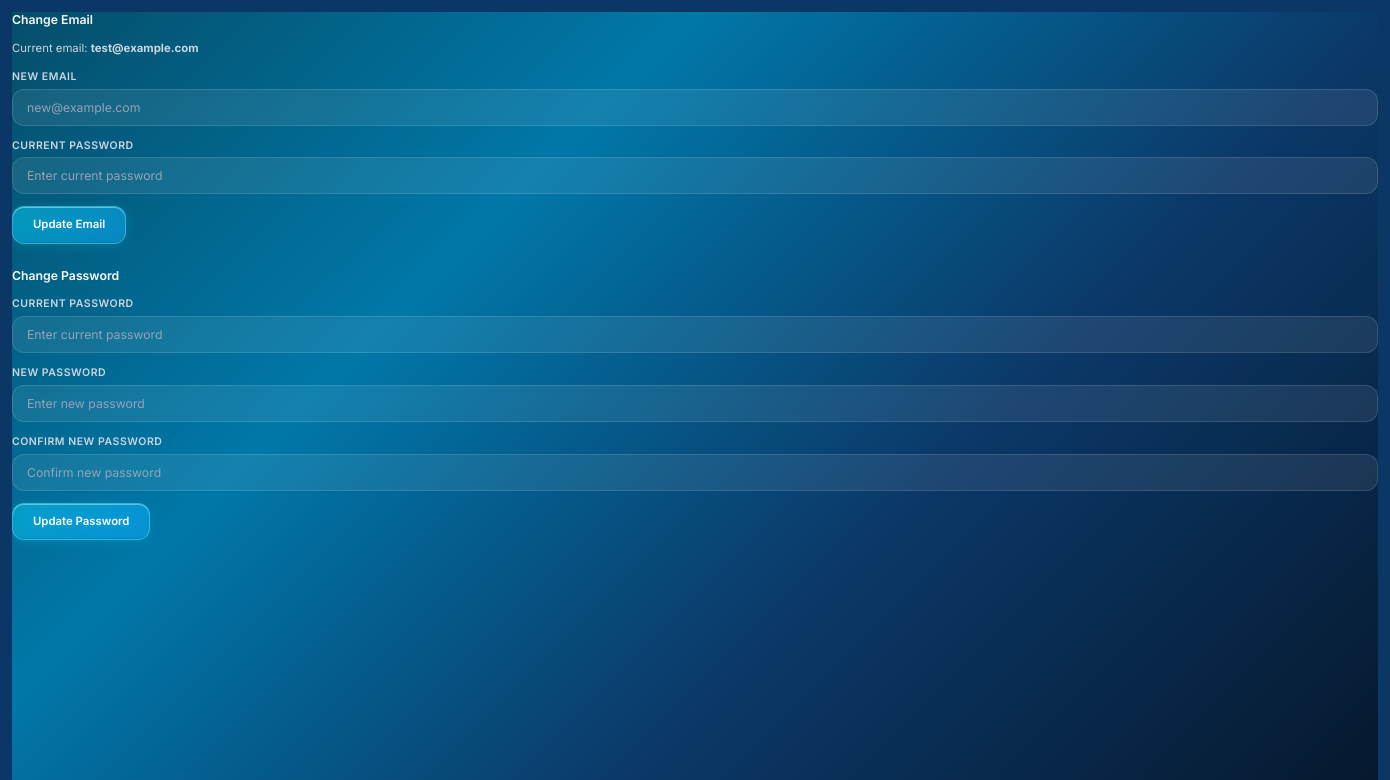
ProfileSection › shows error when passwords do not match
This screenshot has width=1390, height=780.
Type "x-cur" into the password field labelled "Current Password" below "Change Password" at [695, 335], box [12,316,1378,353]
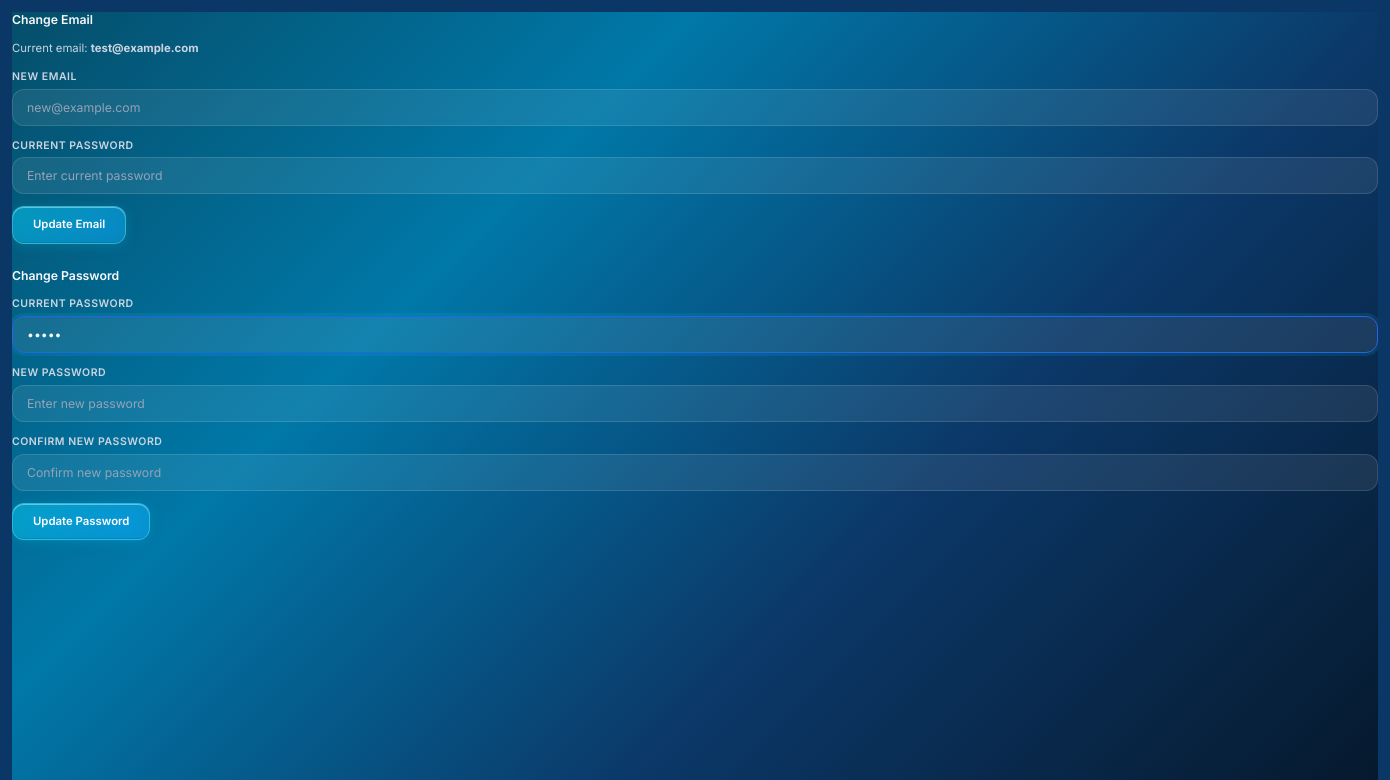
Type "x-new-1" into the password field labelled "New Password" at [695, 403], box [12,385,1378,422]
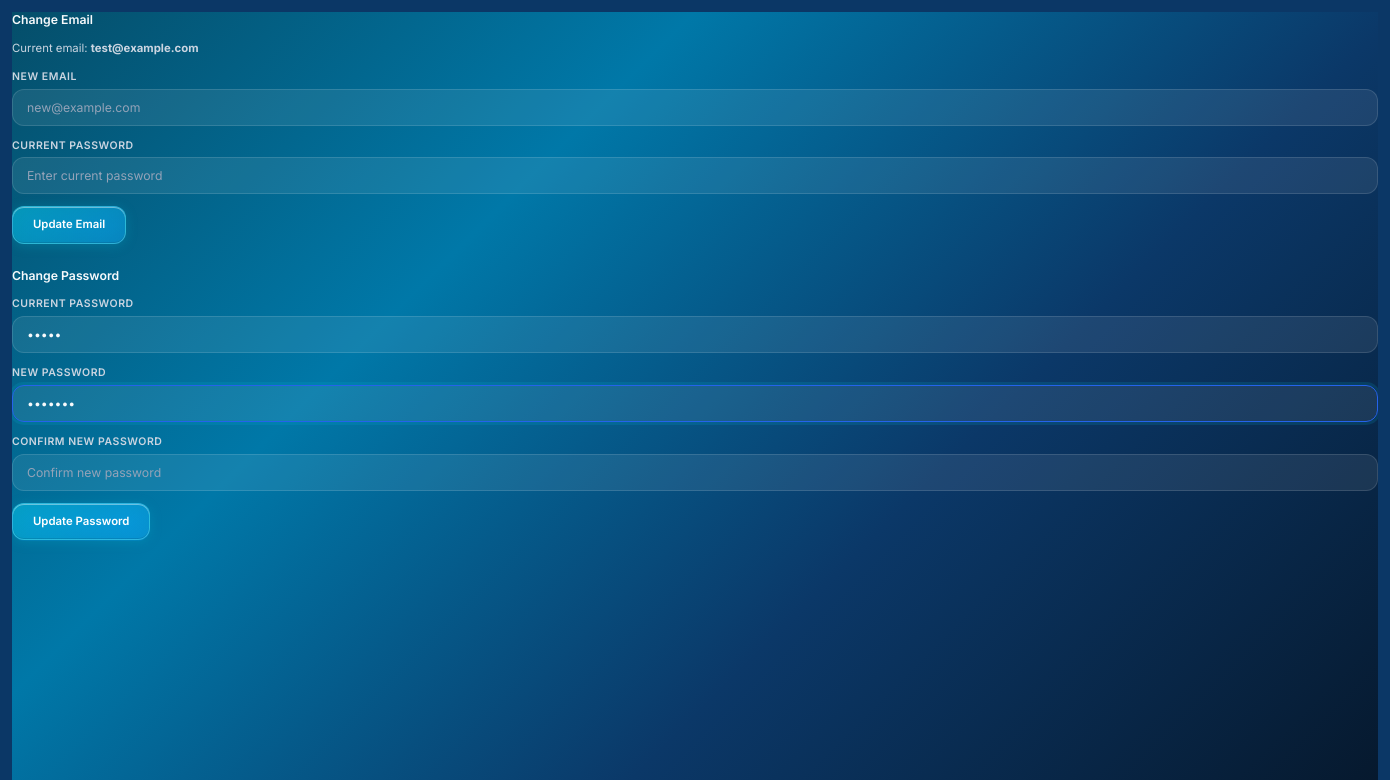
Type "x-new-2" into the password field labelled "Confirm New Password" at [695, 472], box [12,454,1378,491]
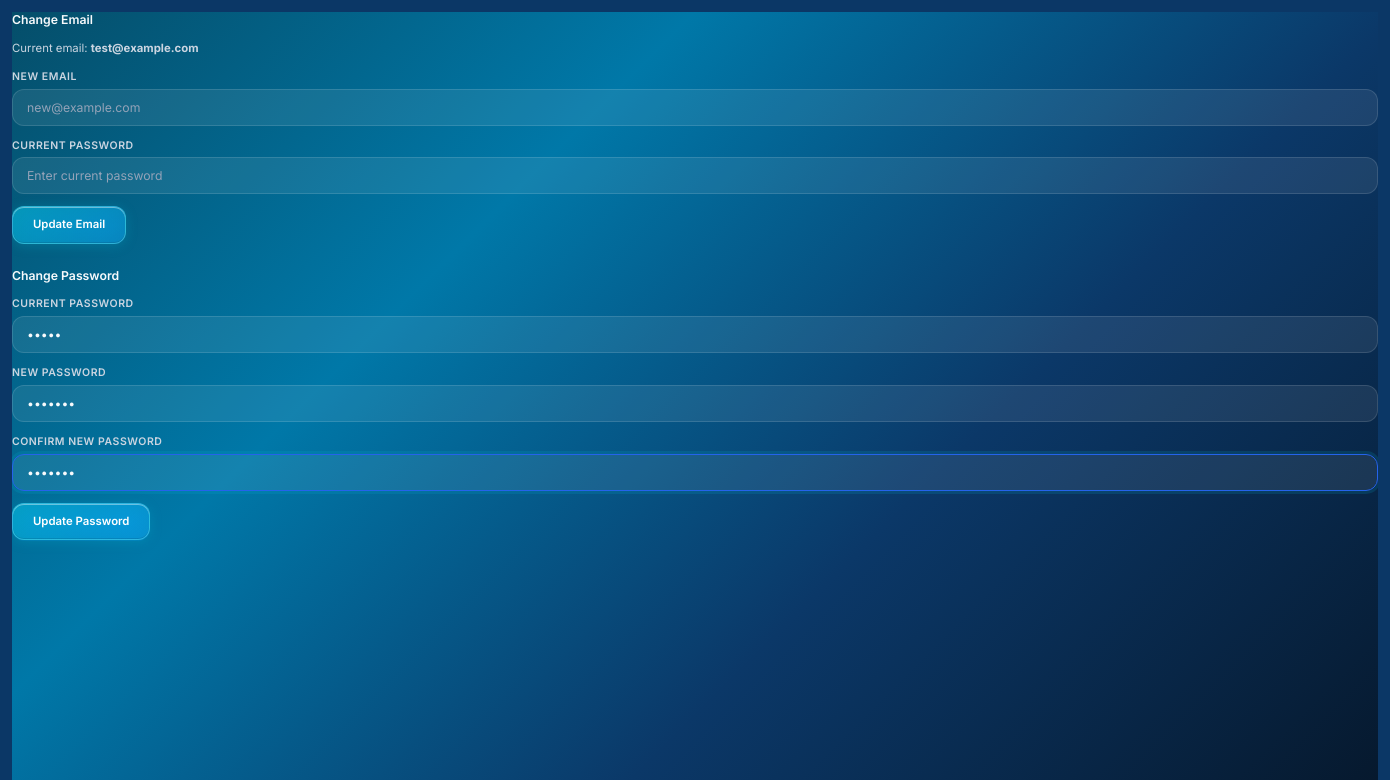
Click the button "Update Password" at [81, 522], box [12,503,150,540]
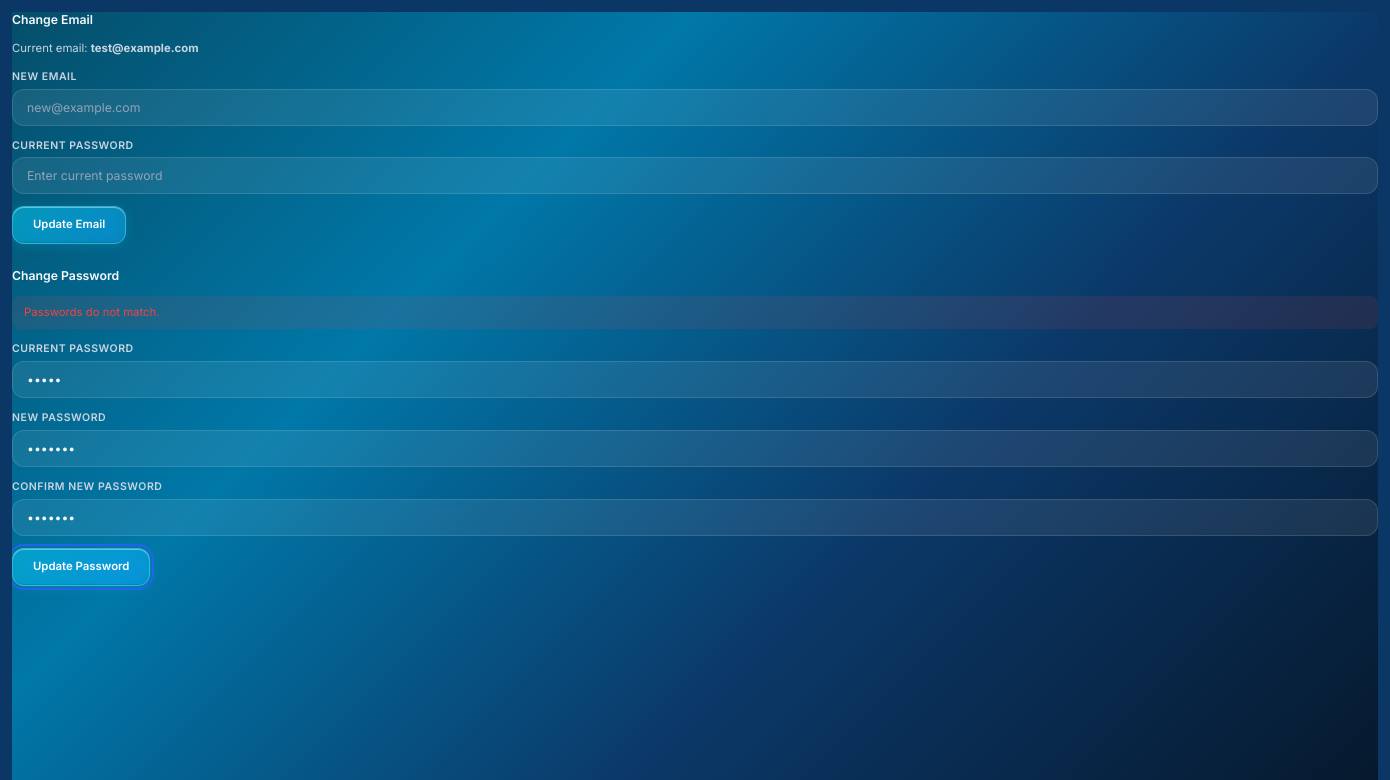
Expected: the text "Passwords do not match." is shown, [12,296,1378,329]
